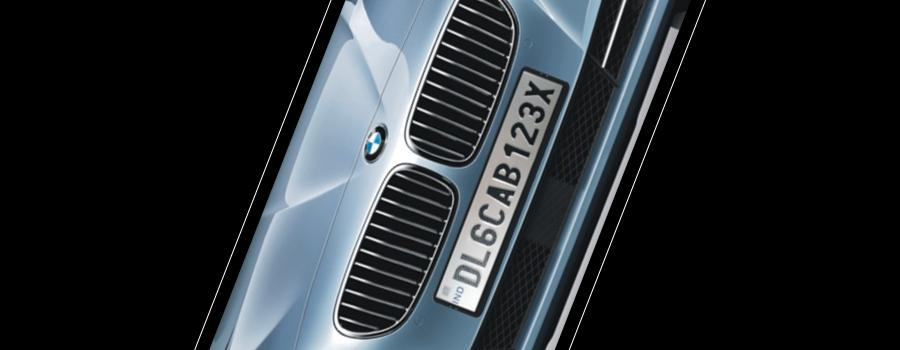plate: (417, 44, 590, 334)
